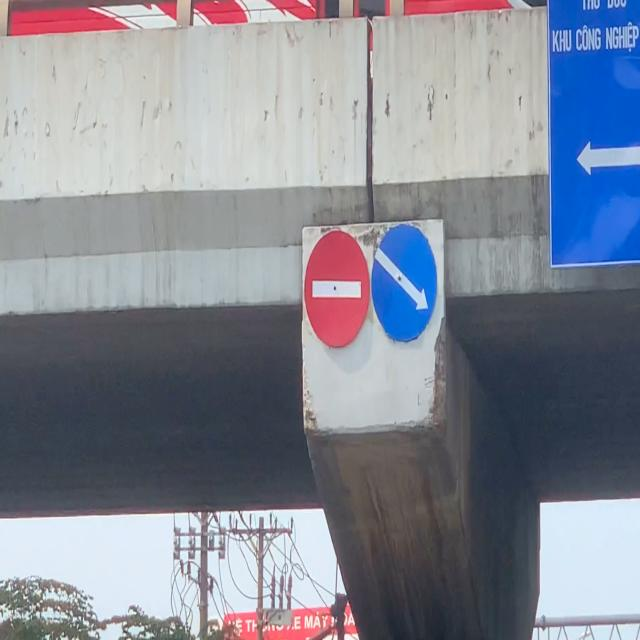Cam nguoc chieu: (304, 230, 370, 348)
Hieu lenh: (371, 224, 437, 342)
